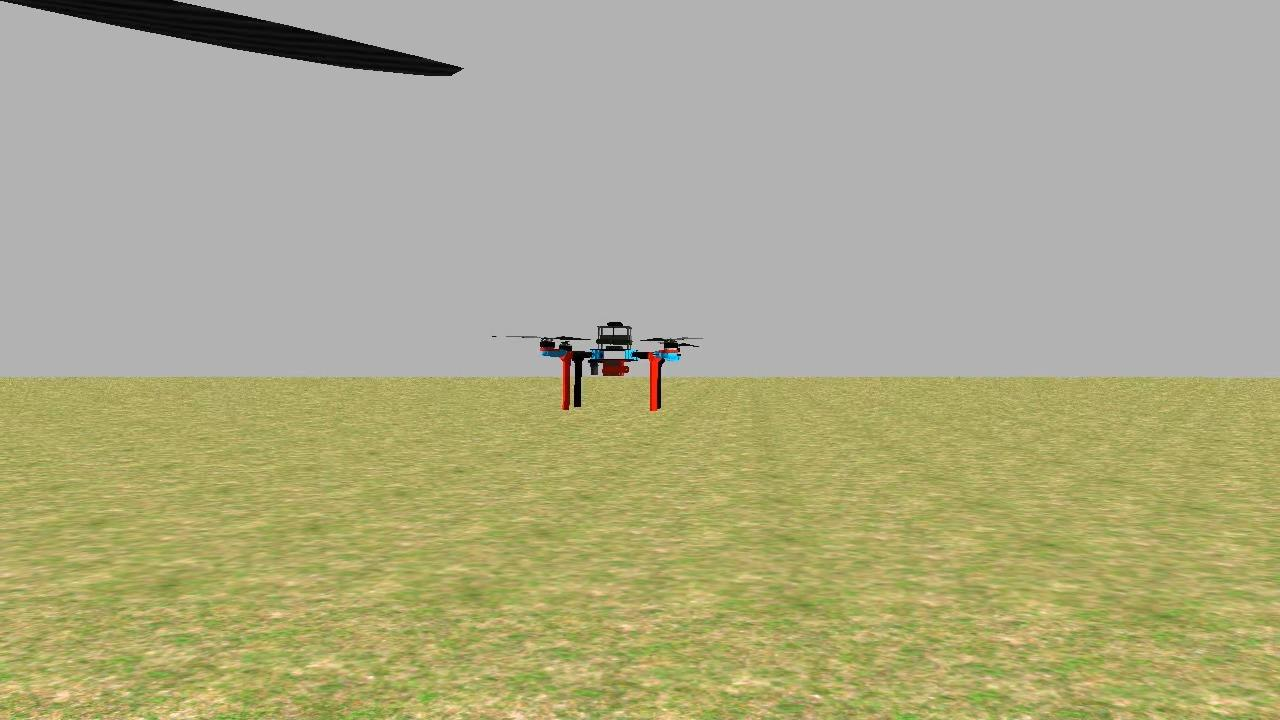UAV: (526, 305, 694, 420)
